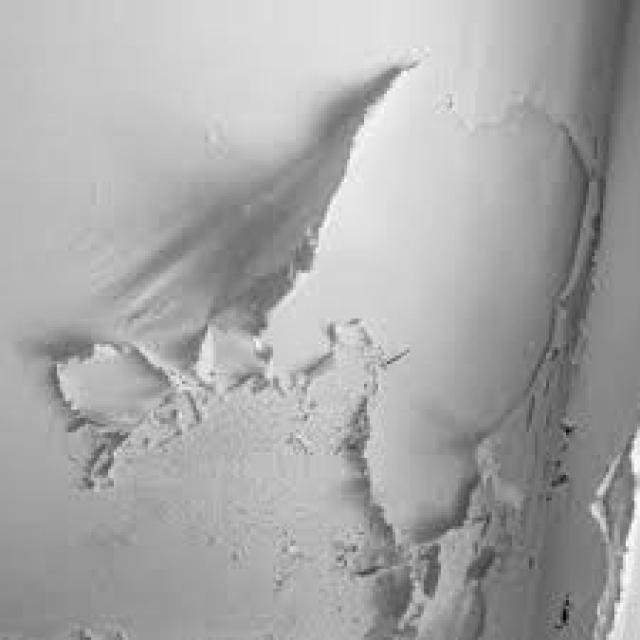peeling paint: (40, 43, 640, 637)
